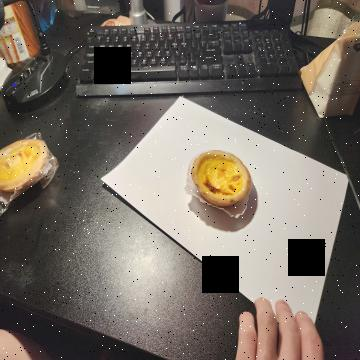EggTart: (191, 150, 252, 207)
